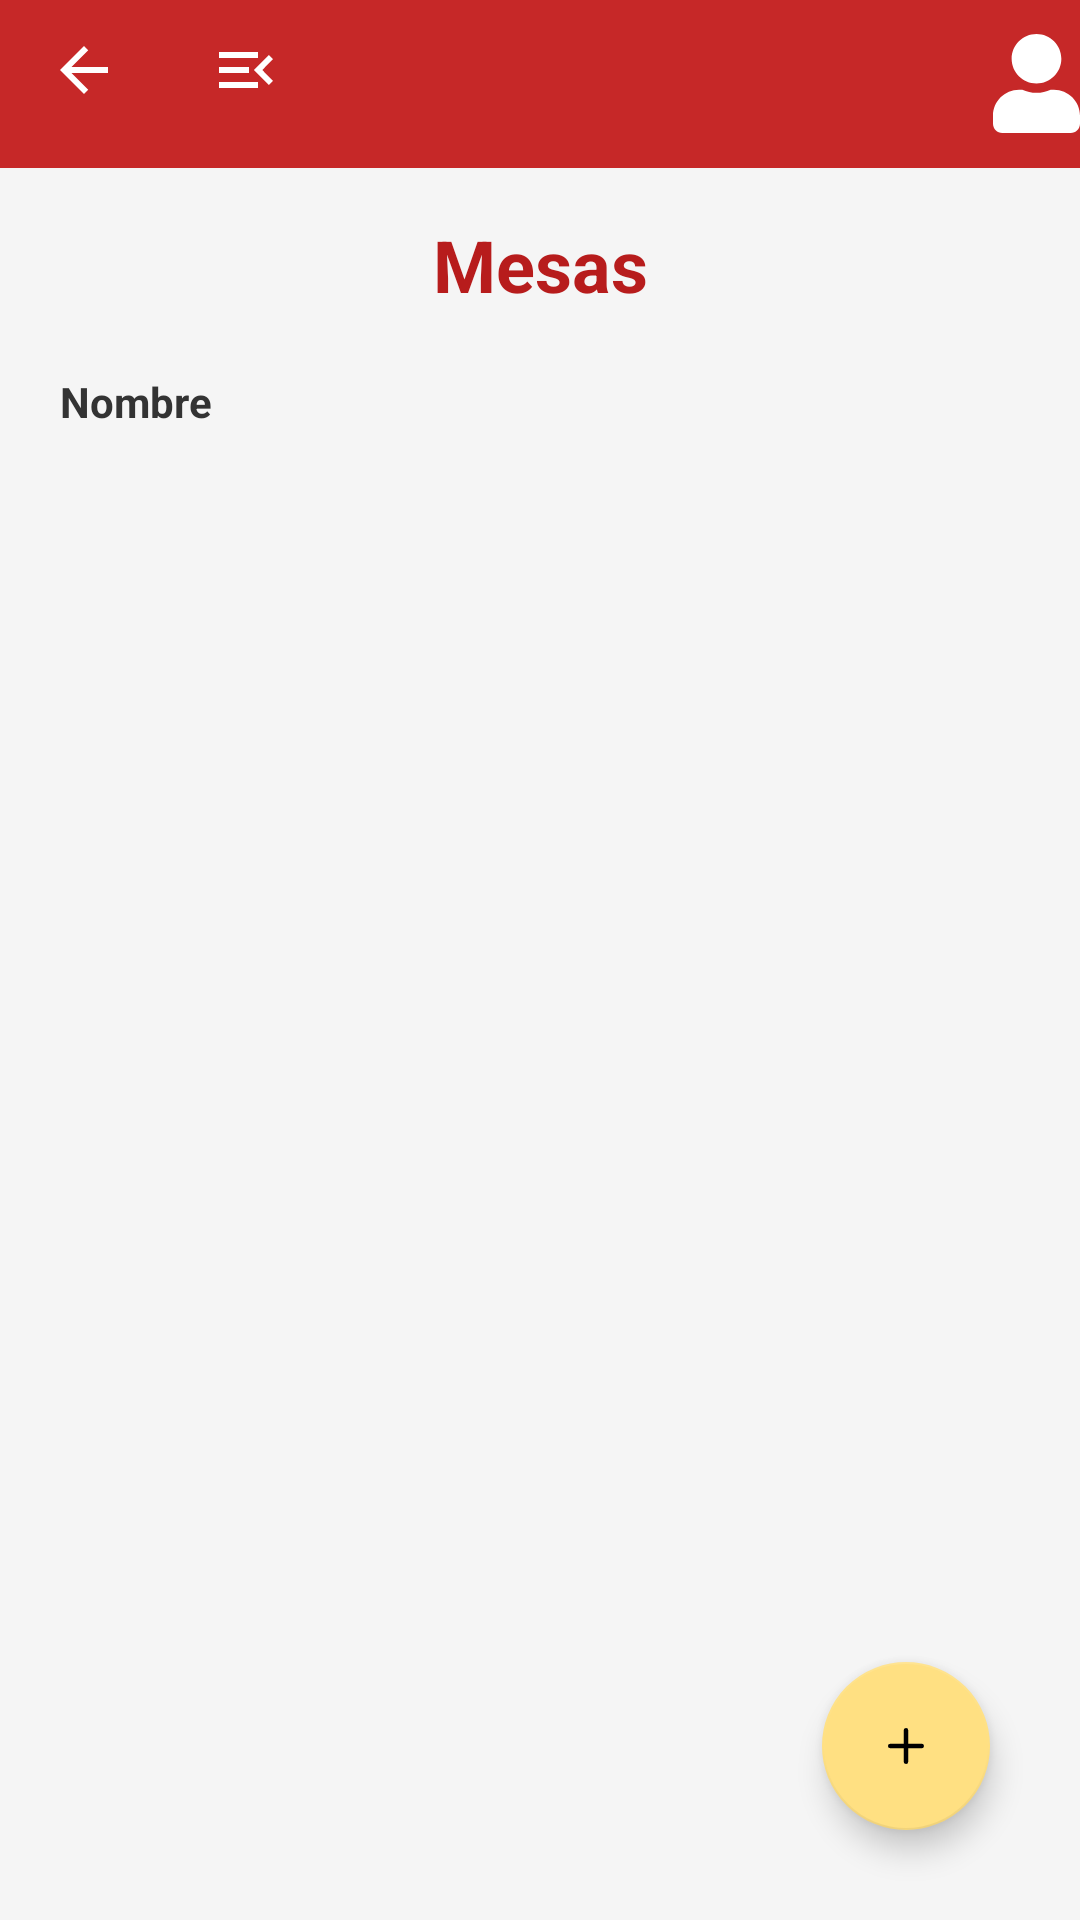

Icons on this 1080px x 1920px Android screen, each with its box as (x1, y1, x2, y2):
arrow back: (60, 46, 108, 94)
open: (219, 52, 273, 88)
plus: (822, 1662, 990, 1830)
user: (993, 34, 1080, 133)
